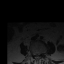CCS_normal: (36, 52, 38, 59)
LFS_stenosis: (39, 50, 41, 56)
LLS_stenosis: (38, 51, 39, 57)
RFS_normal: (33, 51, 34, 57)
RLS_normal: (34, 51, 36, 57)
